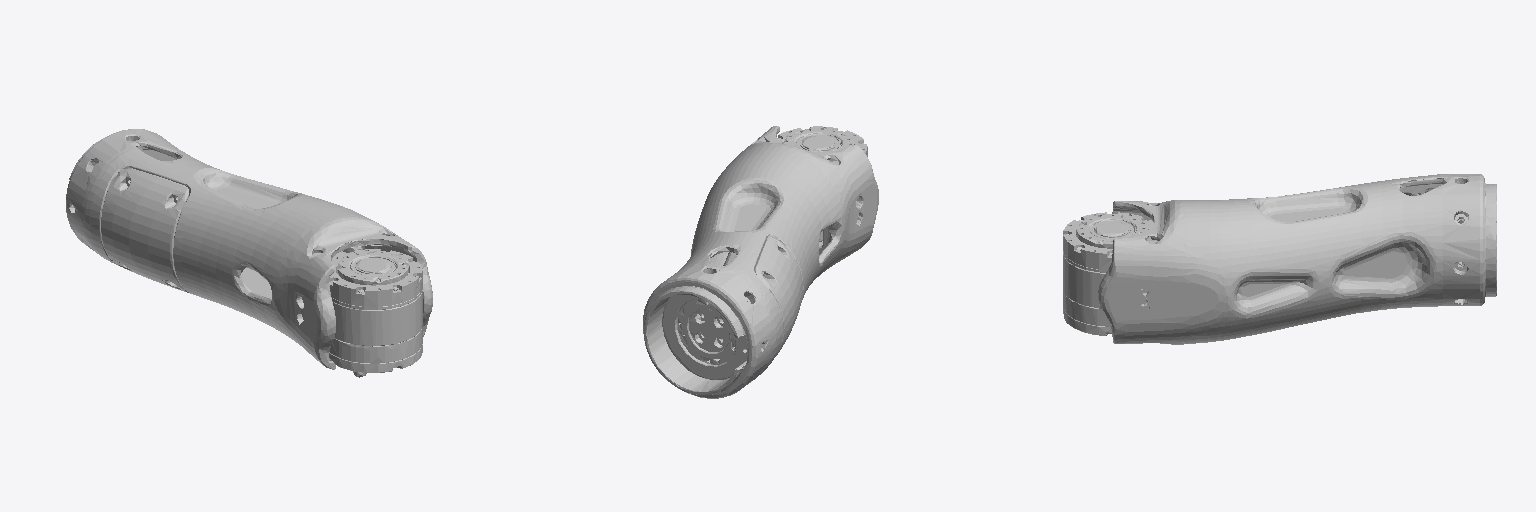
Rendered from neckYaw.obj.
3 views of the same model, side by side, from view 1: azimuth 30°, elevation 25°; view 2: azimuth 150°, elevation 25°; view 3: azimuth 270°, elevation 25° (orthographic).
Visible parts, largest first — view 1: neckYaw; view 2: neckYaw; view 3: neckYaw.
Boxes of the visible parts, <box> form: neckYaw: <box>66,129,432,377</box>; neckYaw: <box>643,126,878,398</box>; neckYaw: <box>1063,174,1496,344</box>.
Size of the model in its own units: 0.0861 by 0.06 by 0.18.